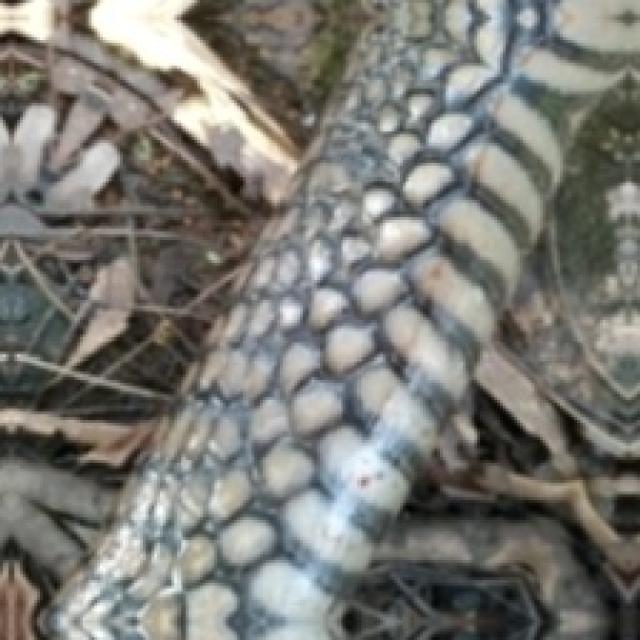king cobra: (46, 0, 637, 637)
